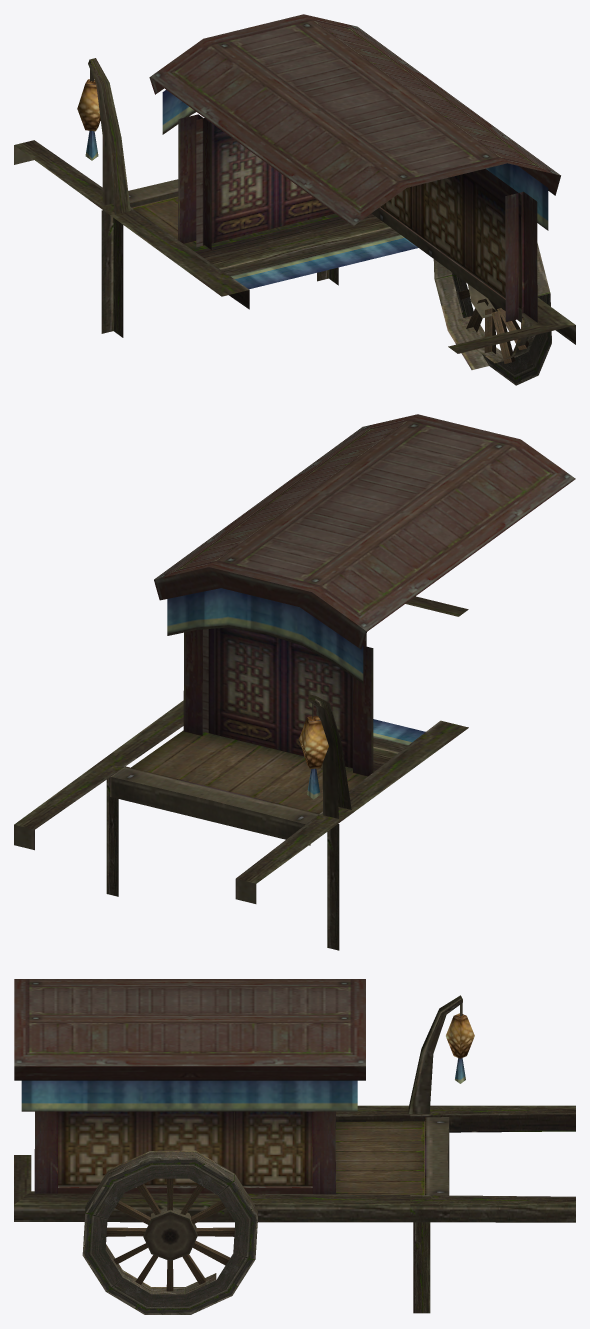
File: zc_erhai_mache01.FBX
3 renders of one model, top to bottom at view 1: azimuth 30°, elevation 25°; view 2: azimuth 150°, elevation 25°; view 3: azimuth 270°, elevation 25°, orthographic. The views are drawn at different scales.
Parts seen in each view (by area): view 1: zc_erhai_mache01; view 2: zc_erhai_mache01; view 3: zc_erhai_mache01.
Part boxes in pixels (x1,y1,x2,y2): zc_erhai_mache01: (14, 14, 575, 385); zc_erhai_mache01: (14, 414, 575, 950); zc_erhai_mache01: (14, 979, 575, 1314).
Bounding box in the file's own units: 201 × 230 × 443.
